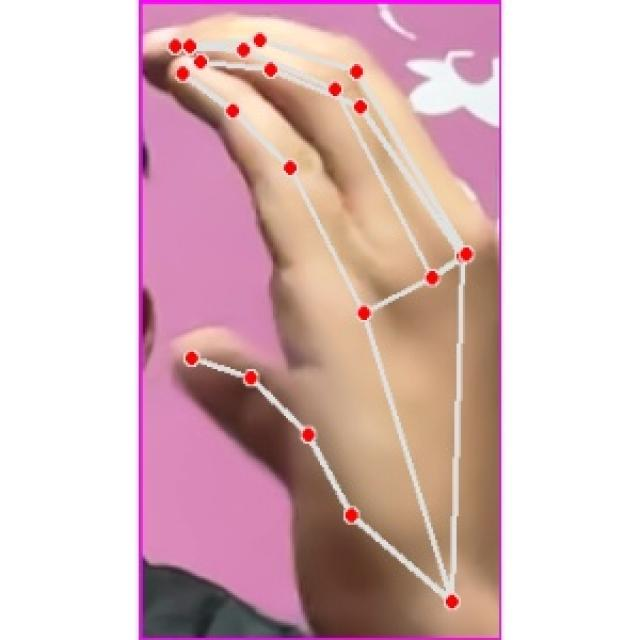C: (161, 12, 504, 638)
